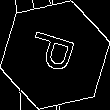P_E: (26, 30, 84, 80)
